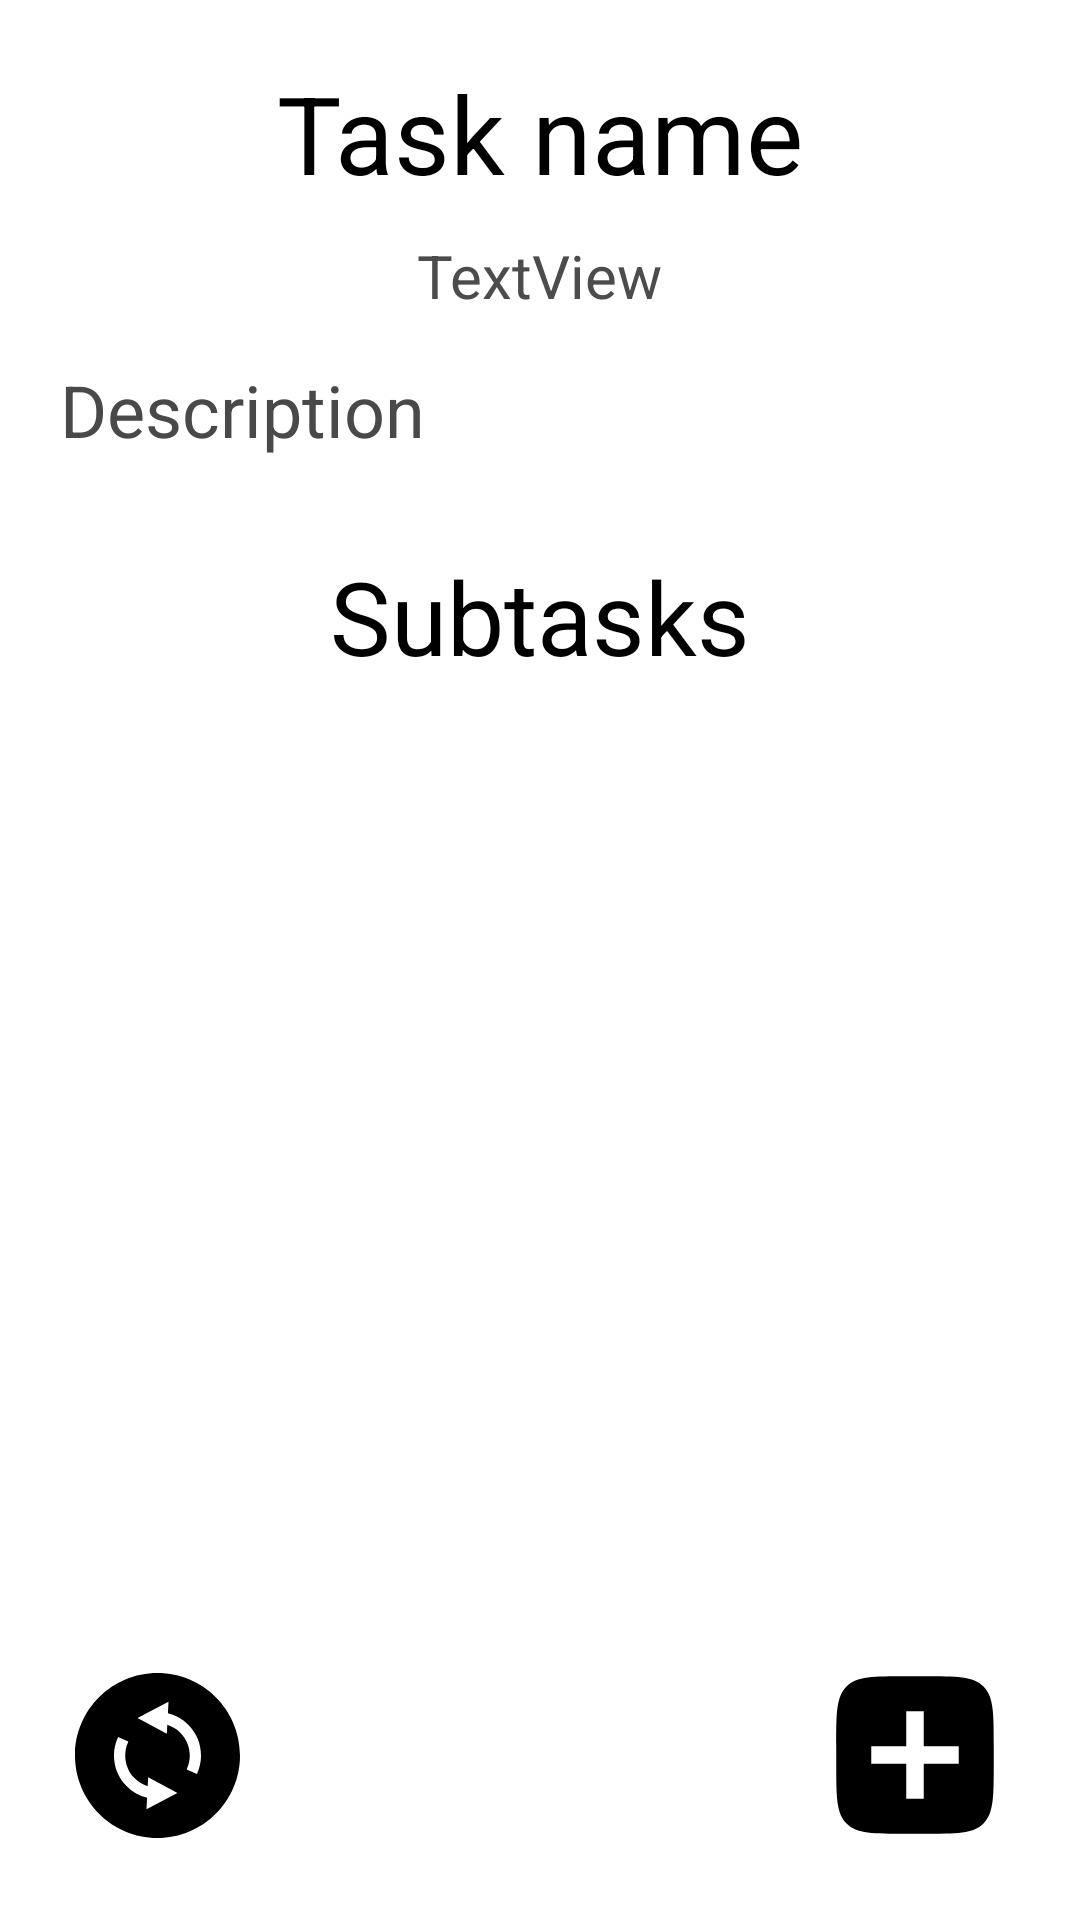

Point at icon controls on the screen. Image size 1080×1920, points as (x=x, y=y).
add square: (x=915, y=1755)
refresh: (x=157, y=1755)
